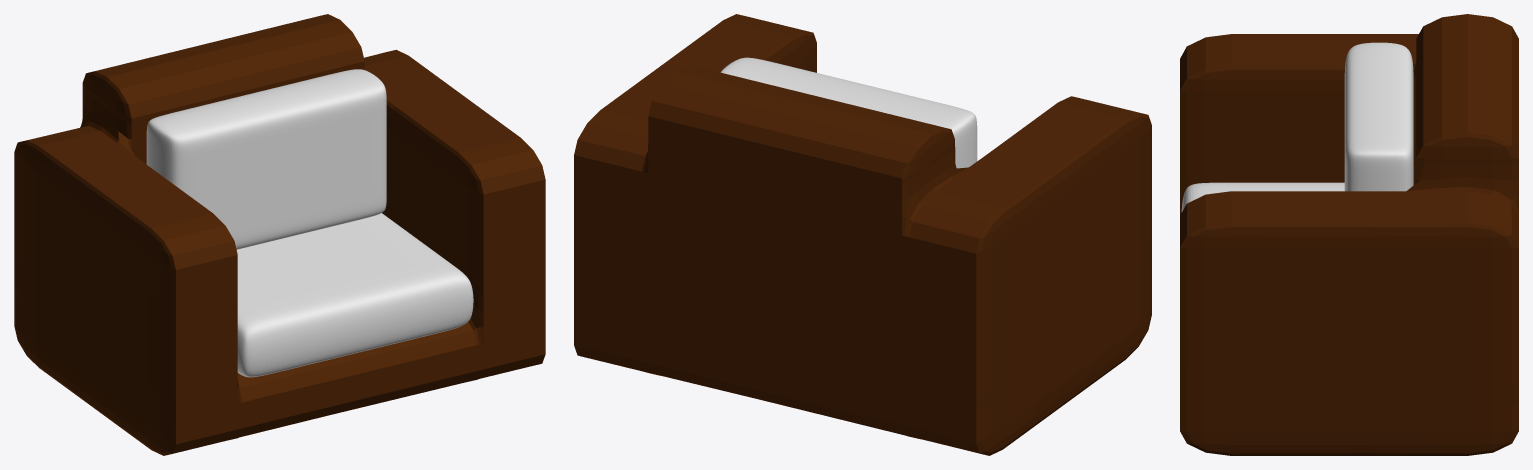
Rendered from SINGLE_SOFA.fbx.
The picture shows the model from 3 angles, left to right: view 1: azimuth 30°, elevation 25°; view 2: azimuth 150°, elevation 25°; view 3: azimuth 270°, elevation 25°; orthographic projection. The views are drawn at different scales.
Parts seen in each view (by area): view 1: Cube.001, Cube.004, Cube.002; view 2: Cube.001, Cube.004; view 3: Cube.001, Cube.004, Cube.002.
Part boxes in pixels (left/top/right/bottom): Cube.001: left=14, top=14, right=545, bottom=455; Cube.004: left=146, top=69, right=386, bottom=249; Cube.002: left=236, top=213, right=473, bottom=377; Cube.001: left=574, top=14, right=1151, bottom=455; Cube.004: left=720, top=57, right=977, bottom=168; Cube.001: left=1180, top=14, right=1518, bottom=455; Cube.004: left=1344, top=42, right=1413, bottom=191; Cube.002: left=1181, top=182, right=1344, bottom=212.
Size of the model in its own units: 947 by 661 by 705.
